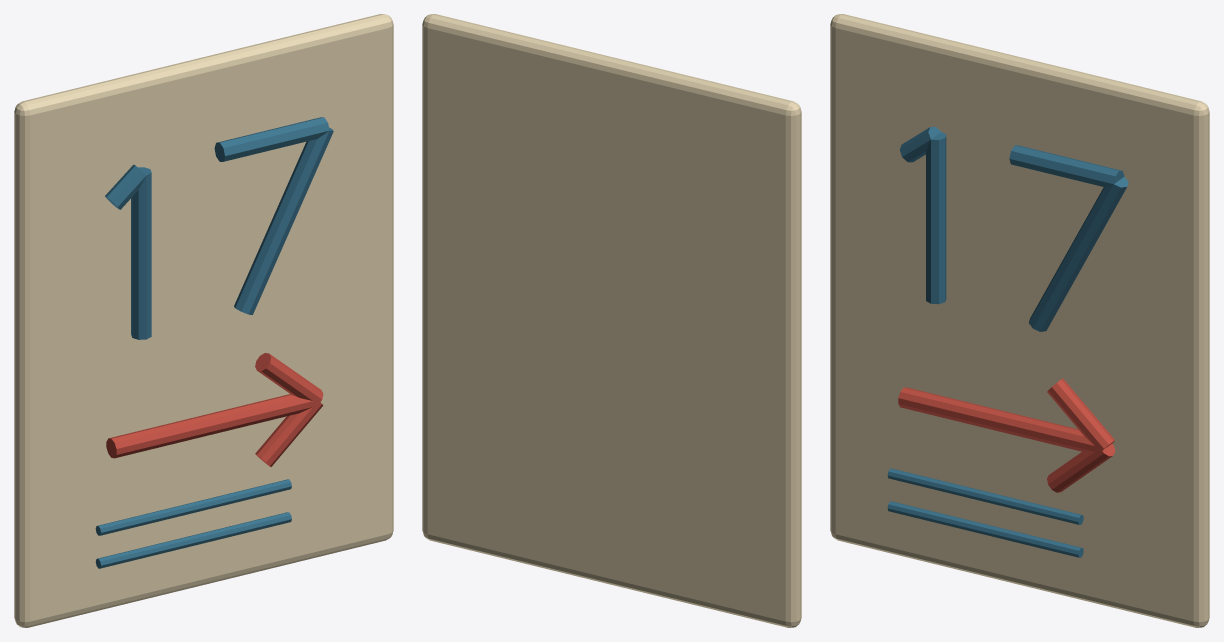
The model's file is platform-17-v1-BMdQcR7l.glb.
3 renders of one model, left to right at view 1: azimuth 30°, elevation 25°; view 2: azimuth 150°, elevation 25°; view 3: azimuth 330°, elevation 25°, orthographic.
Parts seen in each view (by area): view 1: Platform paper, Direction arrow shaft, Seven slash, One, Seven top, Notice line 1, Notice line 2, Direction arrow upper, Direction arrow lower, One serif; view 2: Platform paper; view 3: Platform paper, Direction arrow shaft, Seven slash, One, Seven top, Notice line 2, Notice line 1, Direction arrow upper, Direction arrow lower, One serif.
Boxes of the visible parts, bbox=[...] form: Platform paper: bbox=[14, 14, 393, 627]; Direction arrow shaft: bbox=[106, 394, 320, 458]; Seven slash: bbox=[234, 127, 333, 314]; One: bbox=[131, 167, 151, 339]; Seven top: bbox=[214, 117, 329, 161]; Notice line 1: bbox=[95, 479, 291, 535]; Notice line 2: bbox=[95, 512, 291, 568]; Direction arrow upper: bbox=[255, 353, 323, 402]; Direction arrow lower: bbox=[255, 400, 323, 466]; One serif: bbox=[105, 164, 146, 209]; Platform paper: bbox=[422, 14, 801, 627]; Platform paper: bbox=[830, 14, 1209, 627]; Direction arrow shaft: bbox=[898, 387, 1102, 453]; Seven slash: bbox=[1029, 176, 1128, 331]; One: bbox=[926, 132, 946, 304]; Seven top: bbox=[1009, 145, 1124, 187]; Notice line 2: bbox=[887, 501, 1083, 557]; Notice line 1: bbox=[887, 468, 1083, 524]; Direction arrow upper: bbox=[1047, 378, 1114, 450]; Direction arrow lower: bbox=[1047, 443, 1115, 492]; One serif: bbox=[899, 126, 940, 162].
Bounding box in the file's own units: 1.44 × 1.92 × 0.1483.
